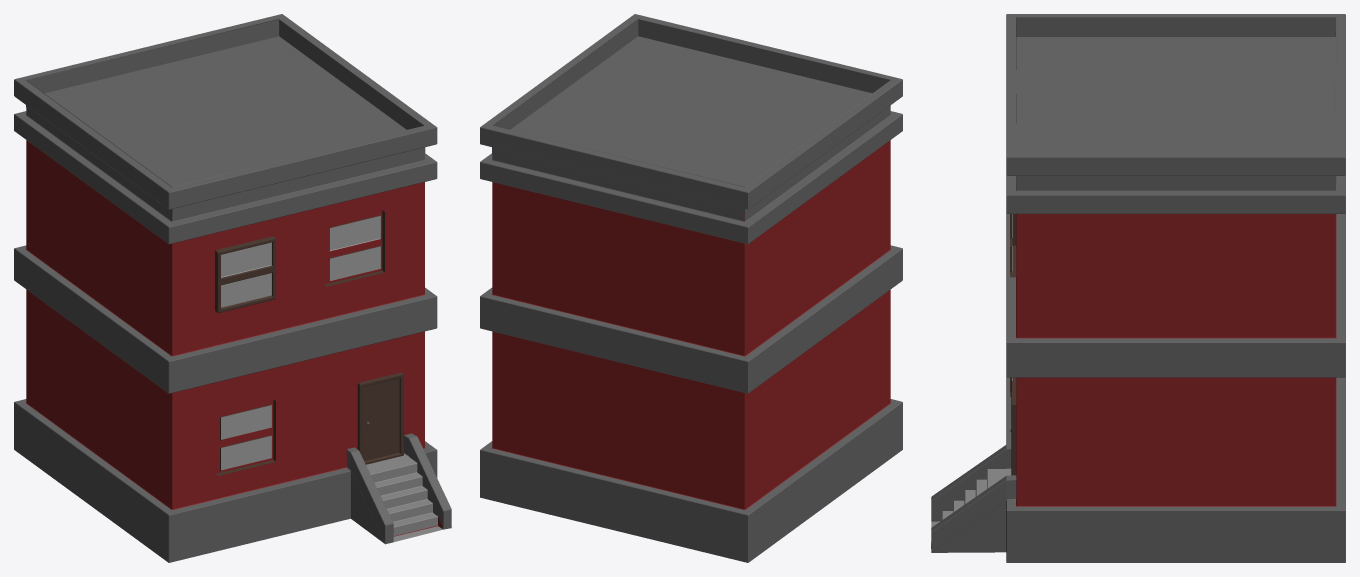
File: blupHouse2.fbx
3 views of the same model, side by side, from view 1: azimuth 30°, elevation 25°; view 2: azimuth 150°, elevation 25°; view 3: azimuth 270°, elevation 25° (orthographic). The views are drawn at different scales.
Parts seen in each view (by area): view 1: Cube; view 2: Cube; view 3: Cube.
Boxes of the visible parts, x1=… form: Cube: x1=14, y1=14, x2=451, y2=562; Cube: x1=480, y1=14, x2=902, y2=562; Cube: x1=931, y1=14, x2=1345, y2=562.
Size of the model in its own units: 531 by 702 by 648.
